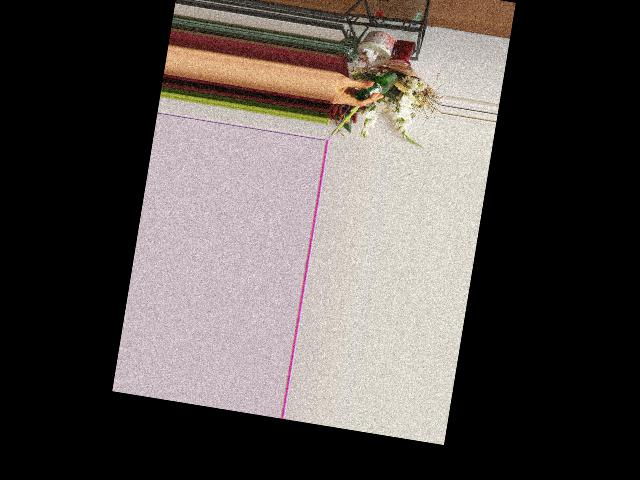beer: (354, 66, 398, 105)
